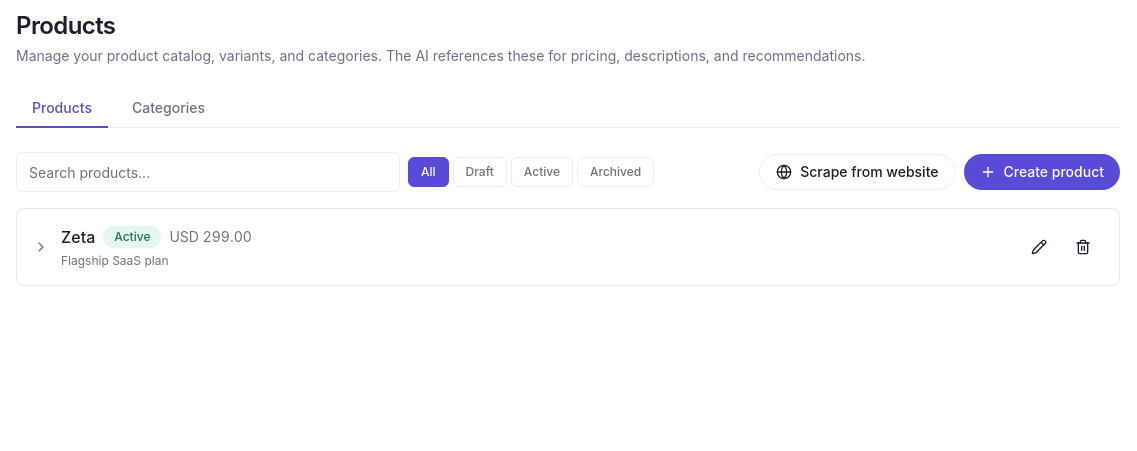
Test case: KAN-1218 Scenario 6 — variant inline expansion › expands a row and lists variants from productVariantsApi.list
Expected: the text "Zeta" is shown, [61,225,95,249]
Click the button "Zeta Active USD 299.00 Flagship SaaS plan" at (78, 237), box [33,225,1019,269]
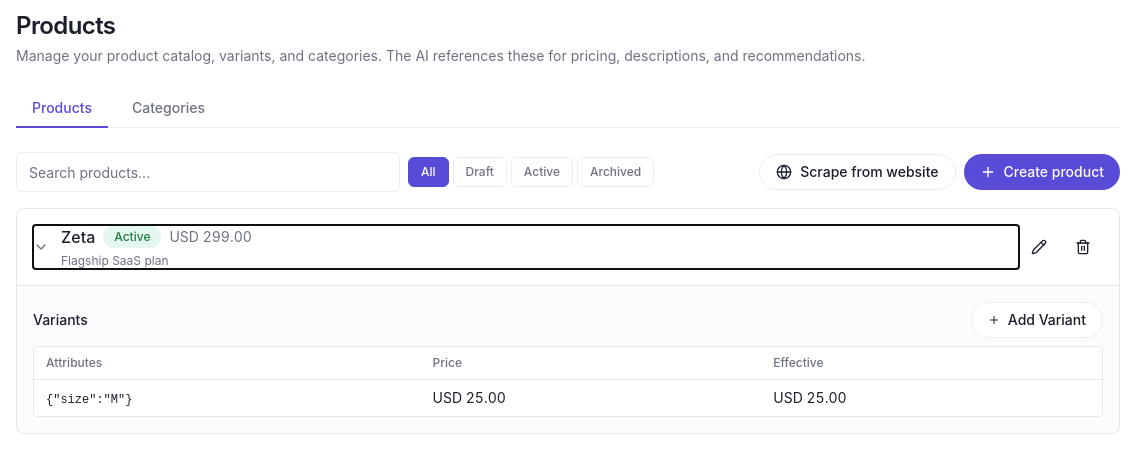
Result: the button "Add Variant" is shown at [971,302,1103,338]
Result: the column heading "Effective" is shown at [761,347,1102,380]
